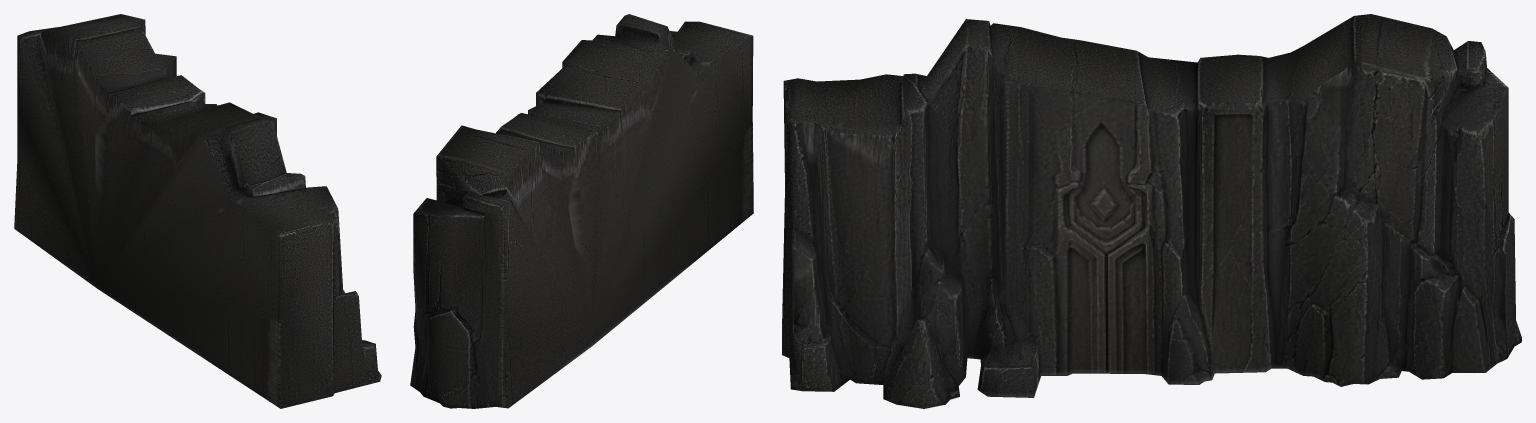
File: tripo_convert_ae6ed0f9-c89e-4bd7-a8c2-3ffc38873596.fbx
3 renders of one model, left to right at view 1: azimuth 30°, elevation 25°; view 2: azimuth 150°, elevation 25°; view 3: azimuth 270°, elevation 25°, orthographic. The views are drawn at different scales.
Parts seen in each view (by area): view 1: tripo_node_ae6ed0f9; view 2: tripo_node_ae6ed0f9; view 3: tripo_node_ae6ed0f9.
Boxes of the visible parts, <box> form: tripo_node_ae6ed0f9: <box>14,14,381,408</box>; tripo_node_ae6ed0f9: <box>410,14,753,408</box>; tripo_node_ae6ed0f9: <box>782,14,1521,408</box>.
Size of the model in its own units: 0.3184 by 0.4707 by 0.998.
Materials: 1 (1 with a texture image).
